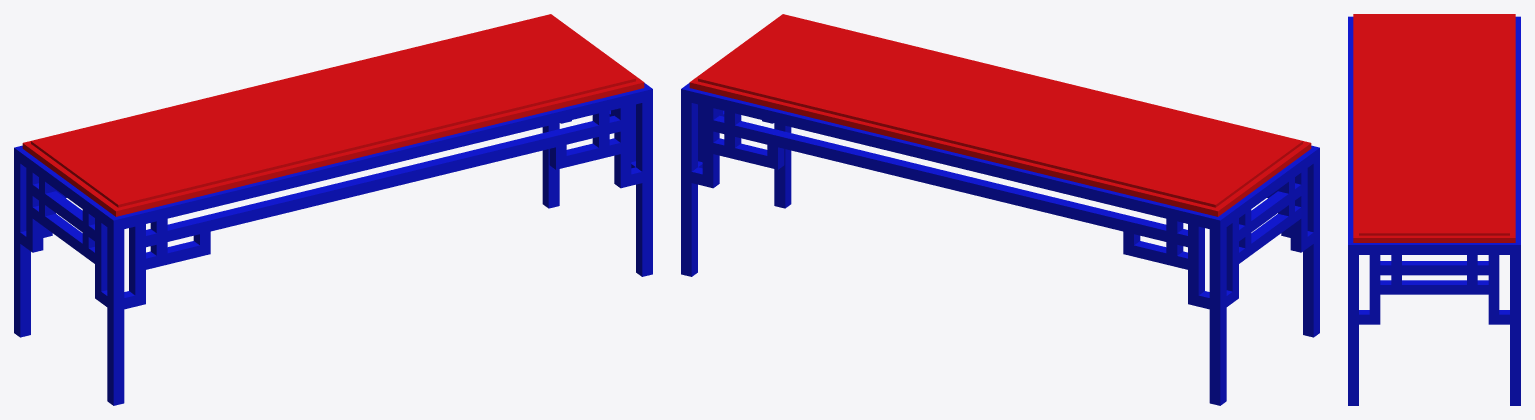
The model's file is table_ArtDeco.fbx.
The picture shows the model from 3 angles, left to right: view 1: azimuth 30°, elevation 25°; view 2: azimuth 150°, elevation 25°; view 3: azimuth 270°, elevation 25°; orthographic projection. The views are drawn at different scales.
Visible parts, largest first — view 1: Plane.008, Plane.007; view 2: Plane.008, Plane.007; view 3: Plane.008, Plane.007.
Part boxes in pixels (x1=…): Plane.008: x1=22, y1=14, x2=644, y2=216; Plane.007: x1=14, y1=83, x2=652, y2=405; Plane.008: x1=689, y1=14, x2=1311, y2=216; Plane.007: x1=681, y1=83, x2=1319, y2=405; Plane.008: x1=1353, y1=14, x2=1515, y2=242; Plane.007: x1=1348, y1=16, x2=1520, y2=405.
Bounding box in the file's own units: 250 × 85.89 × 80.
